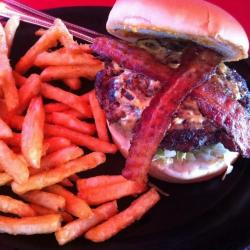burger: (97, 1, 249, 181)
fries: (1, 34, 127, 230)
